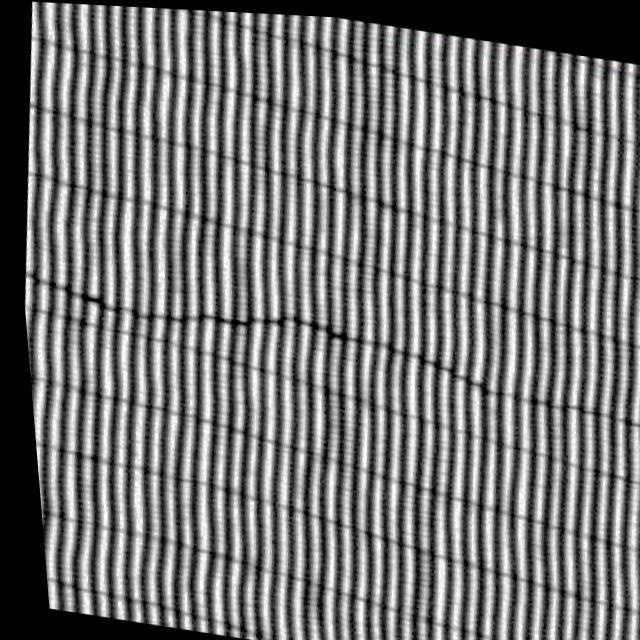Stitch: (15, 213, 486, 425)
